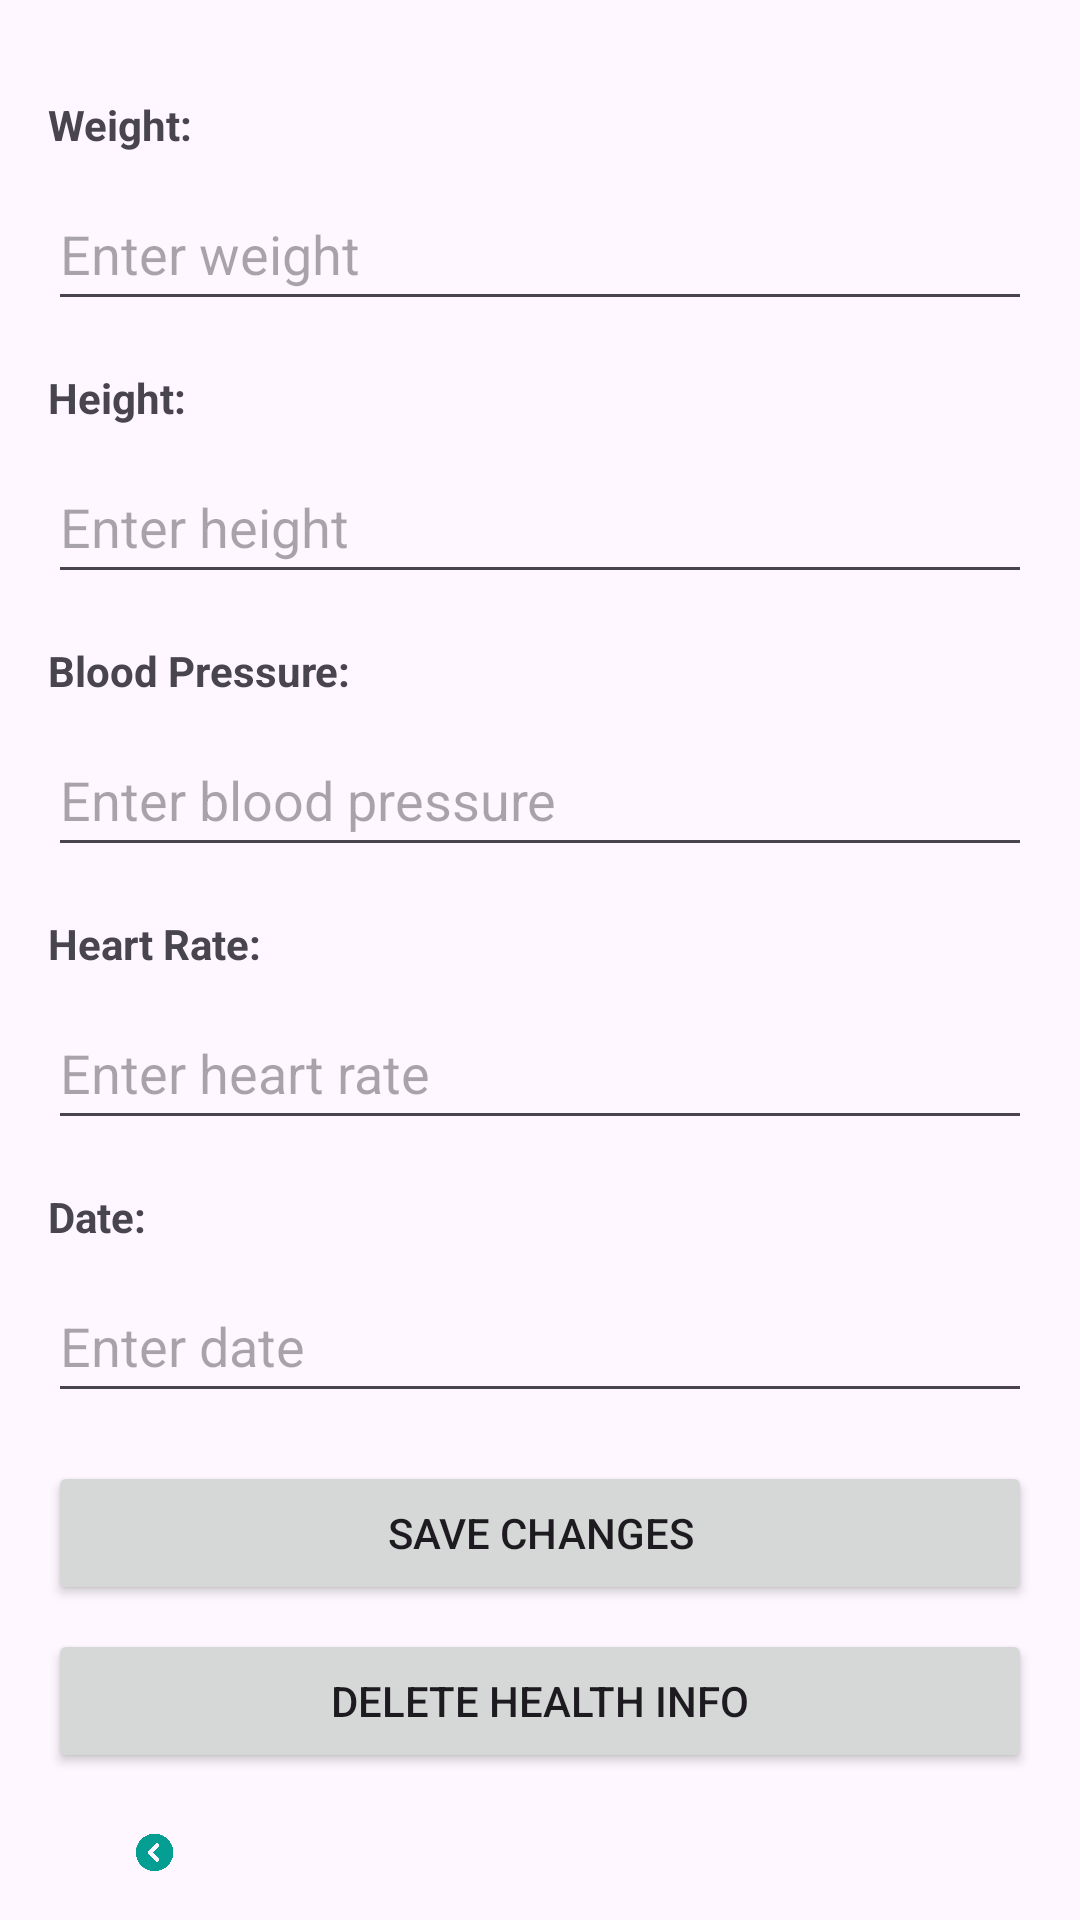

Screen size 1080*1920. Icon name, then its box in pixels as (x1, y1, x2, y2):
backicon: (136, 1834, 173, 1871)
